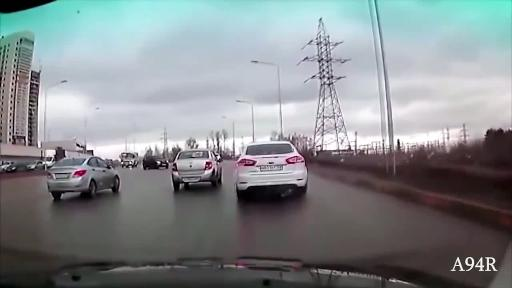CAR: (227, 140, 314, 199), (51, 150, 121, 203), (167, 149, 226, 189)
